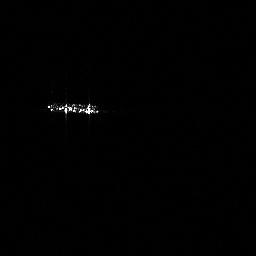ship: (45, 99, 100, 115)
